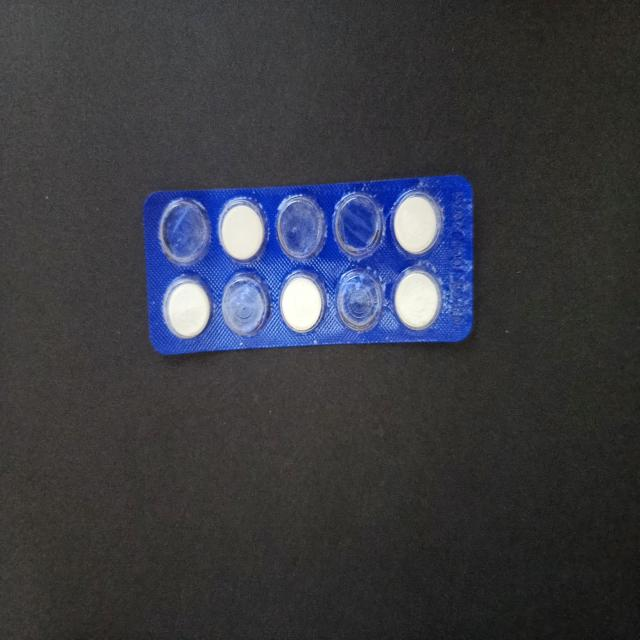defect: (157, 194, 213, 270), (332, 190, 386, 259), (276, 192, 328, 262), (221, 269, 272, 338), (334, 267, 385, 334)
